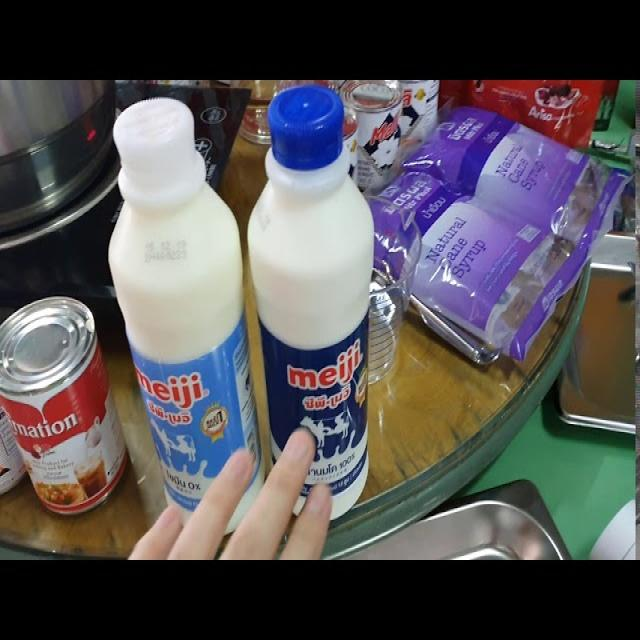milk: (92, 90, 262, 533), (252, 88, 376, 534)
